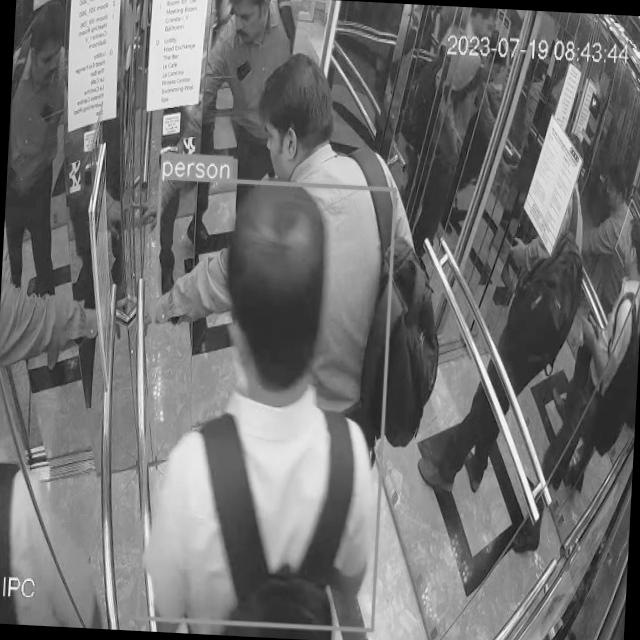person: (135, 178, 396, 640), (234, 67, 438, 434), (561, 199, 640, 536), (212, 0, 304, 182)
